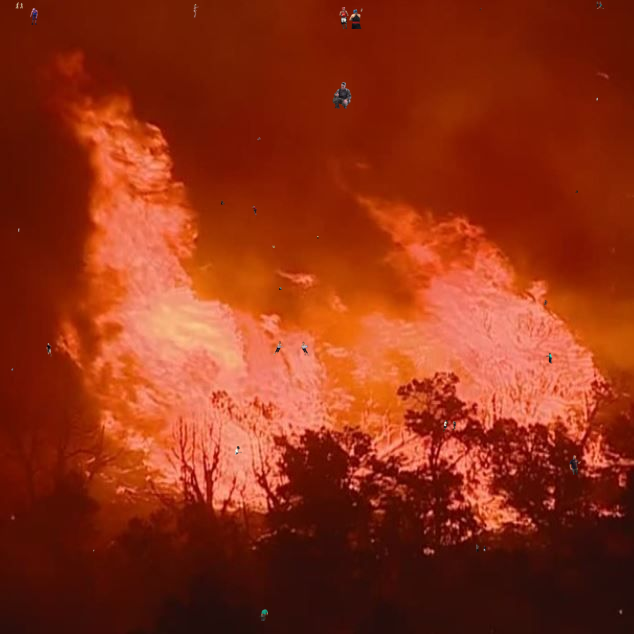Human: (332, 82, 352, 109), (273, 341, 309, 356), (339, 7, 363, 29), (569, 455, 584, 475), (24, 8, 38, 25), (46, 343, 55, 361), (443, 420, 456, 432), (259, 609, 268, 621), (193, 4, 199, 19), (476, 544, 486, 552), (251, 205, 257, 216), (546, 353, 552, 364), (596, 1, 604, 9), (235, 446, 242, 455), (15, 2, 23, 9), (544, 300, 548, 306), (221, 200, 225, 206), (257, 137, 261, 142), (317, 236, 321, 239), (11, 368, 14, 372), (18, 228, 20, 233), (596, 97, 598, 102), (93, 549, 95, 554), (479, 8, 482, 11), (272, 245, 275, 248), (575, 190, 578, 193), (279, 287, 282, 290)
